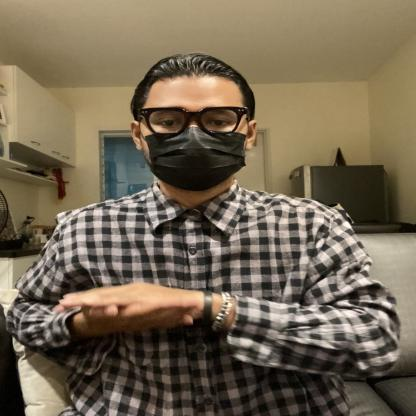Love: (27, 256, 275, 345)
